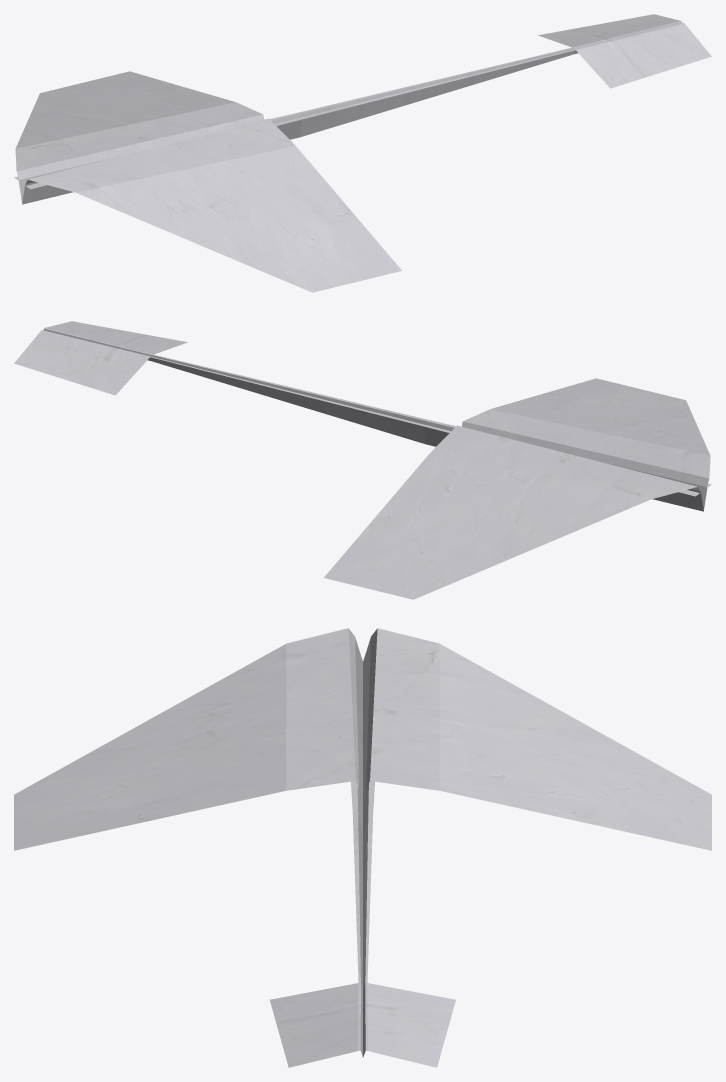
File: glider.glb
3 renders of one model, top to bottom at view 1: azimuth 30°, elevation 25°; view 2: azimuth 150°, elevation 25°; view 3: azimuth 270°, elevation 25°, orthographic. The views are drawn at different scales.
Visible parts, largest first — view 1: Plane.005; view 2: Plane.005; view 3: Plane.005.
Boxes of the visible parts, <box> form: Plane.005: <box>14,14,711,292</box>; Plane.005: <box>14,321,711,599</box>; Plane.005: <box>14,628,711,1067</box>.
Size of the model in its own units: 2 by 0.1588 by 1.43.
1 material, 1 textured.
